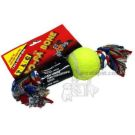tennis ball: (65, 47, 104, 80)
